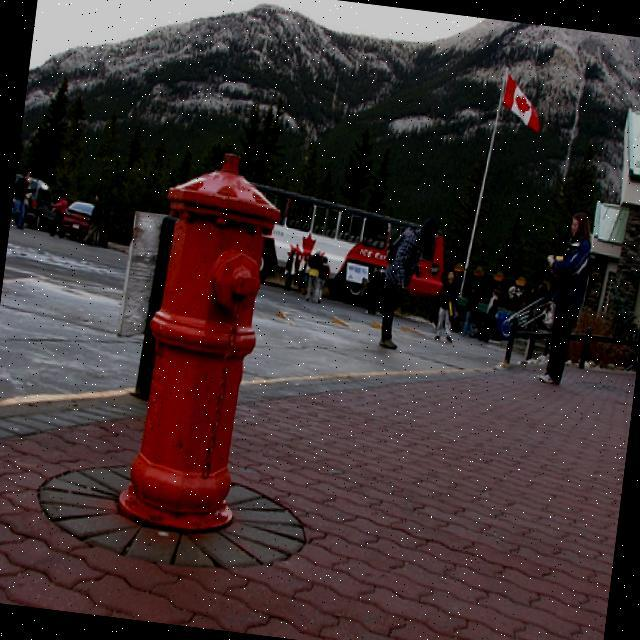fire_hydrant: (113, 145, 287, 540)
